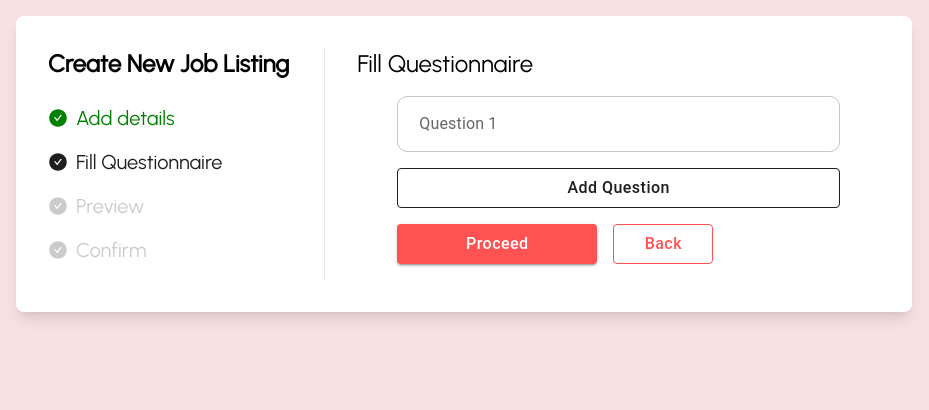
Test: JobQuestionnaire Component › adds a new question field when 'Add Question' button is clicked
Click the button "Add Question".
click(619, 188)  # box top-left (397, 168), bottom-right (840, 208)
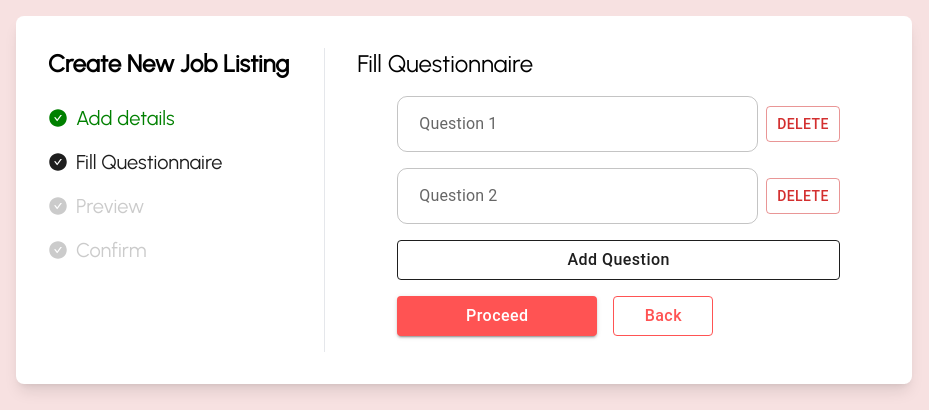
Result: the field labelled "Question 2" is shown at top-left (397, 168), bottom-right (758, 224)
